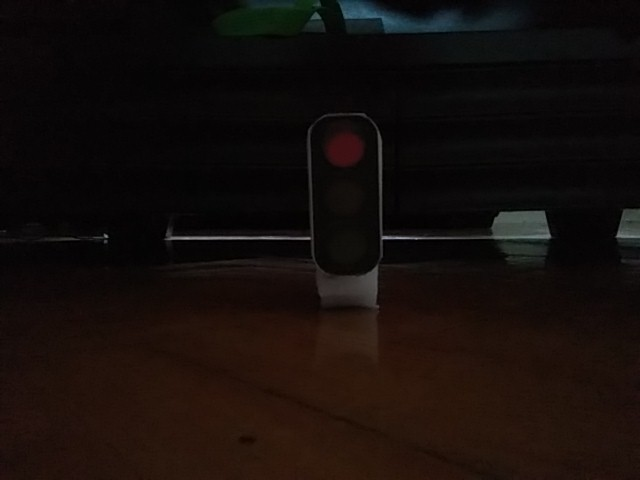Red Traffic Light: (307, 113, 385, 275)
